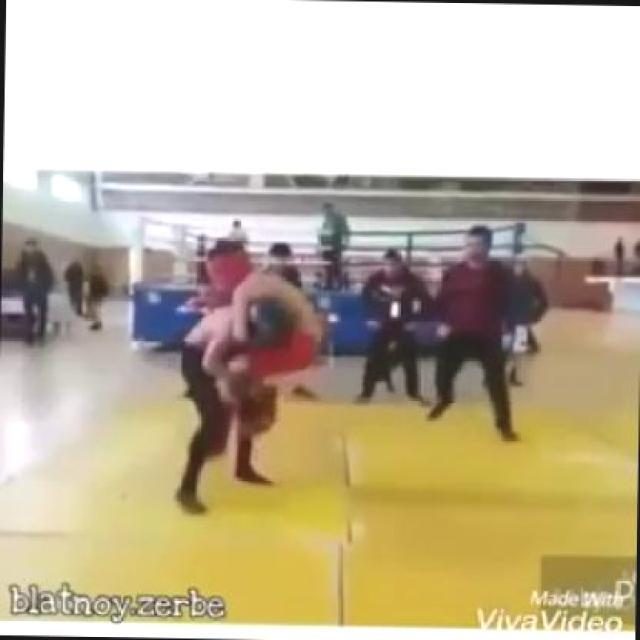fight: (159, 242, 327, 504)
